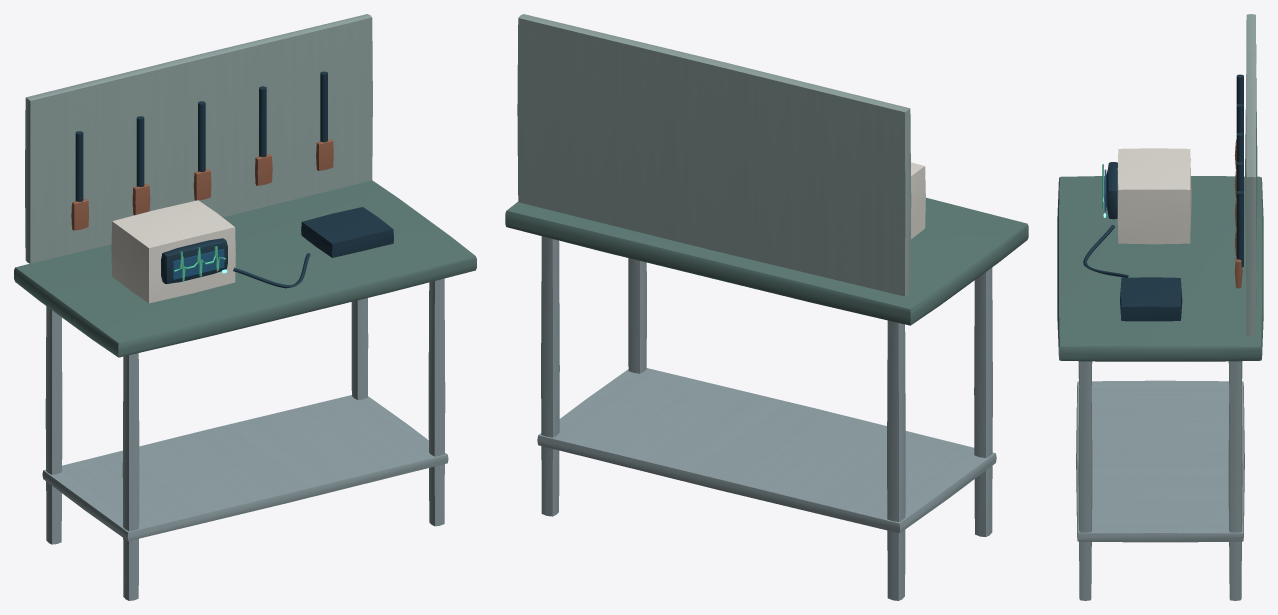
File: calibration-bench.glb
3 views of the same model, side by side, from view 1: azimuth 30°, elevation 25°; view 2: azimuth 150°, elevation 25°; view 3: azimuth 270°, elevation 25° (orthographic). The views are drawn at different scales.
Parts seen in each view (by area): view 1: calibration-bench; view 2: calibration-bench; view 3: calibration-bench.
Part boxes in pixels (<box>): calibration-bench: <box>14,14,476,600</box>; calibration-bench: <box>505,14,1028,600</box>; calibration-bench: <box>1057,14,1263,600</box>.
Bounding box in the file's own units: 1.3 × 1.52 × 0.66.
24 materials, 24 textured.
